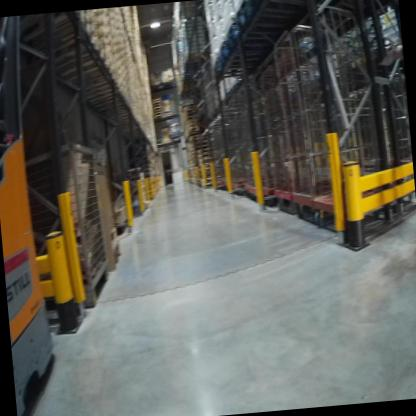forklift: (0, 19, 62, 416)
stillage: (23, 138, 116, 311)
